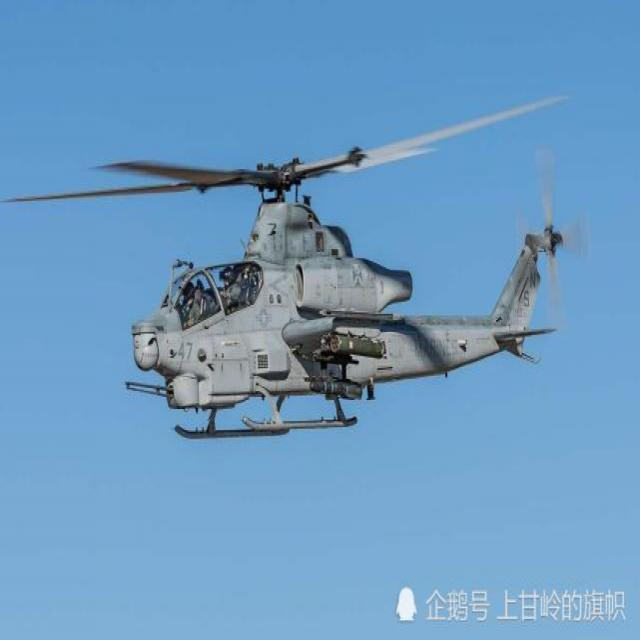MIL_HELO: (0, 84, 592, 449)
